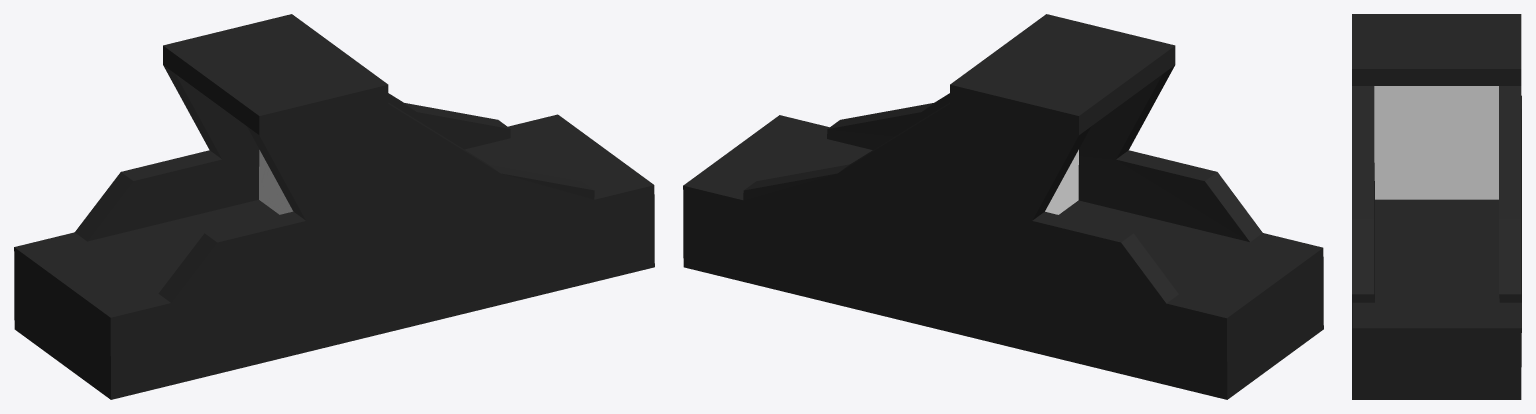
The model's file is Accessories_Red_Dot_A_V1.FBX.
The picture shows the model from 3 angles, left to right: view 1: azimuth 30°, elevation 25°; view 2: azimuth 150°, elevation 25°; view 3: azimuth 270°, elevation 25°; orthographic projection. The views are drawn at different scales.
Visible parts, largest first — view 1: Accessories_Red_Dot_A_V1; view 2: Accessories_Red_Dot_A_V1; view 3: Accessories_Red_Dot_A_V1.
Part boxes in pixels (bbox=[...]): Accessories_Red_Dot_A_V1: bbox=[14, 14, 654, 399]; Accessories_Red_Dot_A_V1: bbox=[683, 14, 1323, 399]; Accessories_Red_Dot_A_V1: bbox=[1352, 14, 1521, 399].
Size of the model in its own units: 38.85 by 16.91 by 11.99.
